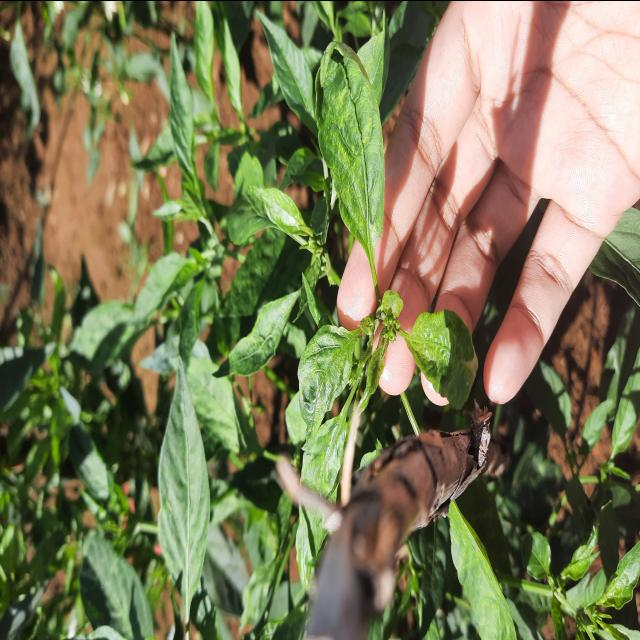thrips: (304, 12, 398, 234), (285, 304, 373, 472)
